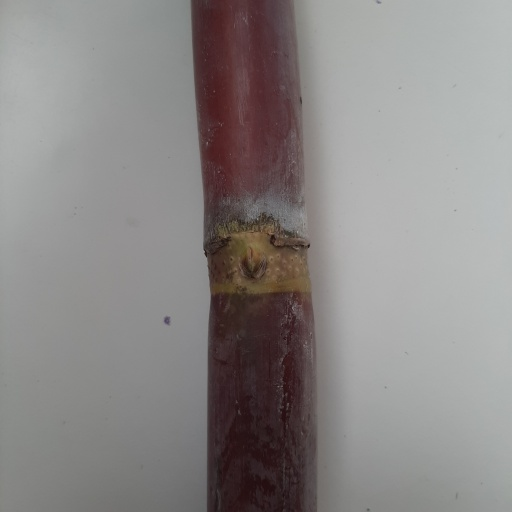Bud: (239, 244, 268, 282)
